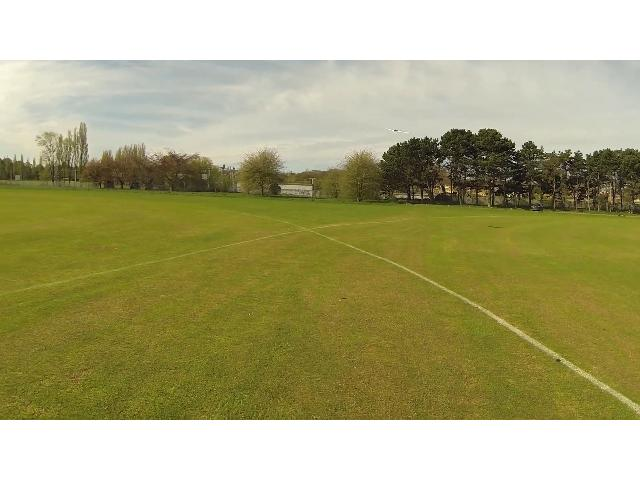Anti-Drone: (381, 123, 413, 135)
